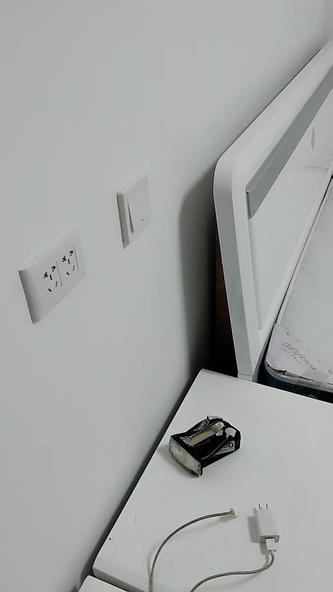switch: (132, 198, 156, 223)
